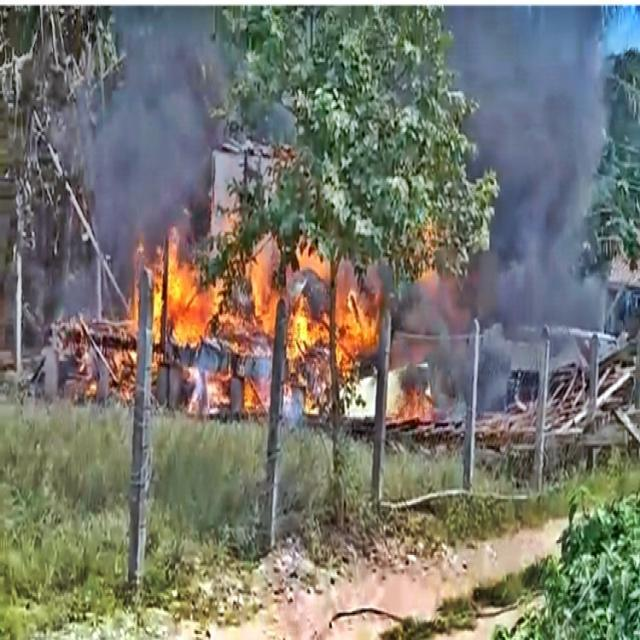Fire: (82, 214, 440, 428)
Smoke: (452, 12, 598, 414), (99, 4, 210, 204)
